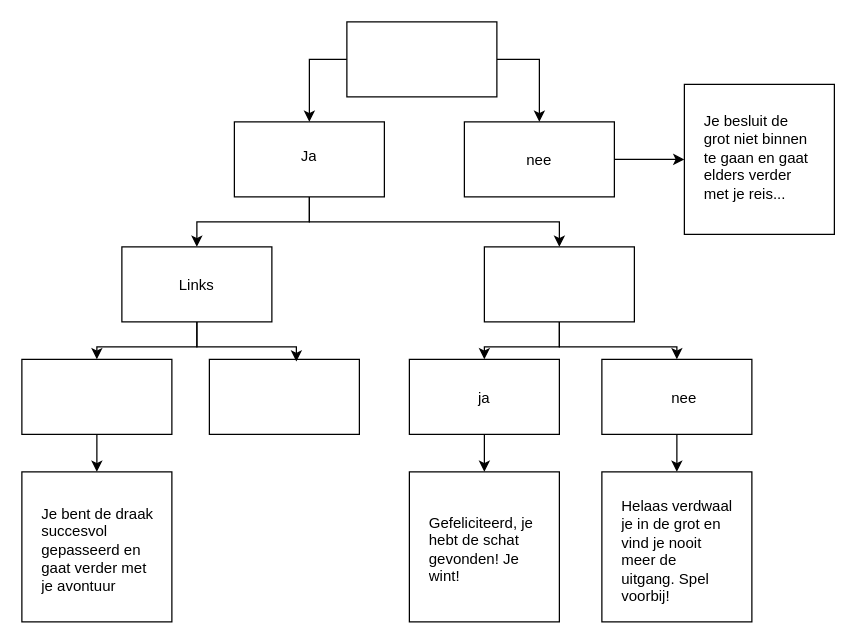
The diagram is 856 pixels wide and 644 high, and some of its shapes have lost their labels. The shapes that lost their labels are listed below. From the top down, each one's centre as x and y in pixels, then its label:
[421,59]: adventure game
[558,284]: Rechts
[96,396]: Sluipen
[283,396]: Vechten
